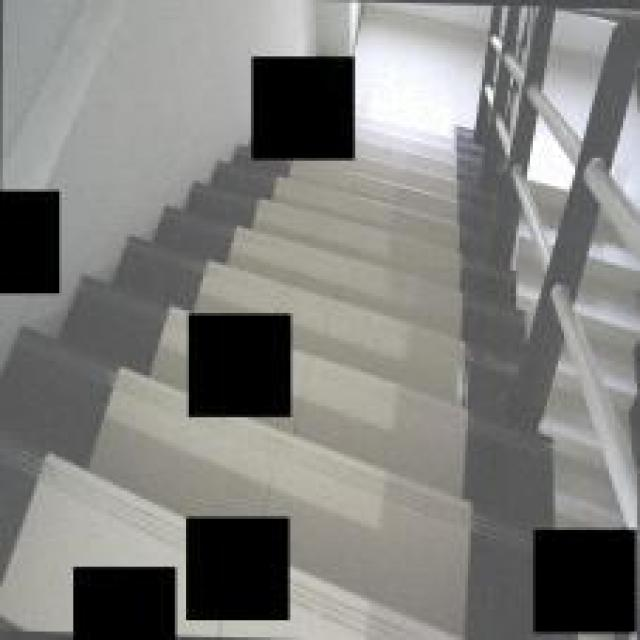downstair: (311, 173, 528, 638)
